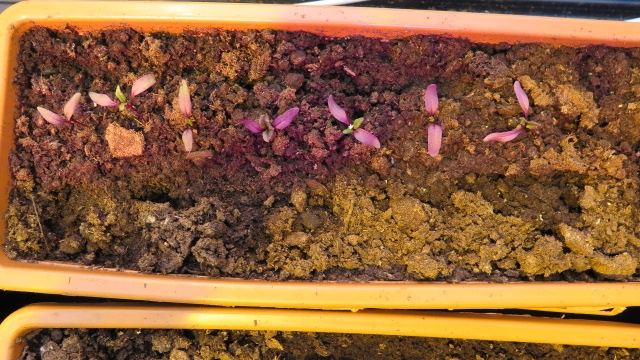crop: (477, 78, 543, 145), (322, 93, 384, 150), (86, 71, 159, 116), (229, 106, 302, 144), (28, 89, 85, 128), (172, 82, 198, 154), (422, 81, 446, 158)
